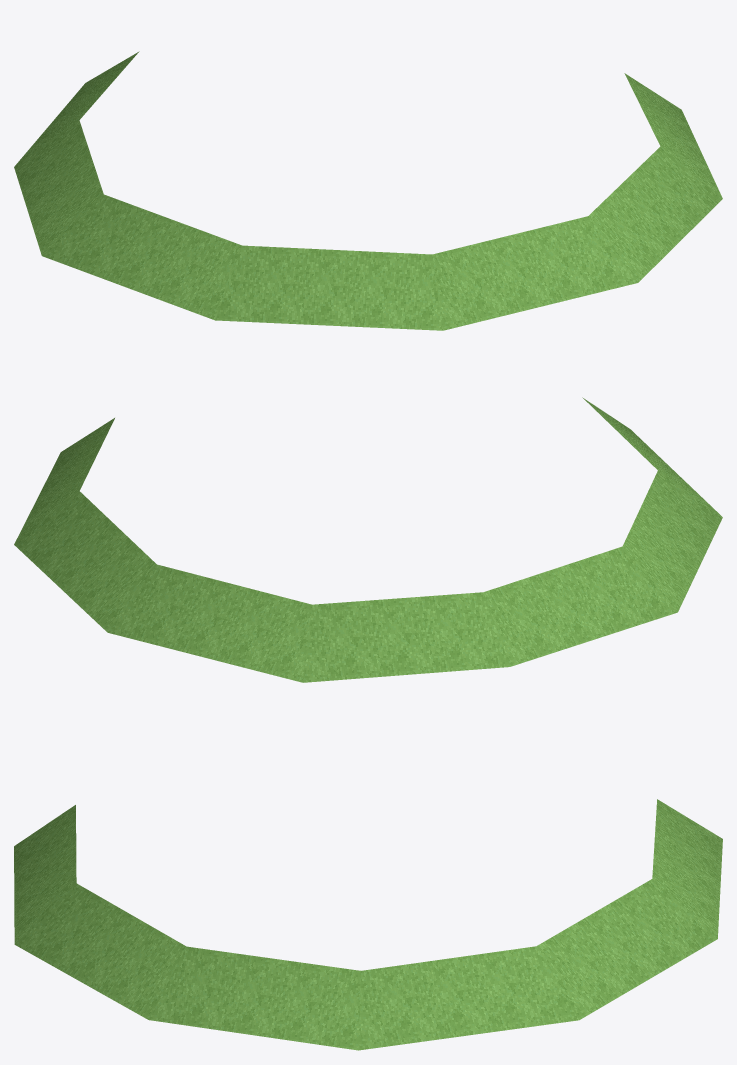
File: kd_connection_world-outer_surface_6_3.glb
3 views of the same model, one above another, from view 1: azimuth 30°, elevation 25°; view 2: azimuth 150°, elevation 25°; view 3: azimuth 270°, elevation 25° (orthographic). The views are drawn at different scales.
Visible parts, largest first — view 1: kd_connection_world-outer_surface_6_3; view 2: kd_connection_world-outer_surface_6_3; view 3: kd_connection_world-outer_surface_6_3.
Boxes of the visible parts, box(x1,y1,x2,y2) form: kd_connection_world-outer_surface_6_3: box(14, 51, 722, 330); kd_connection_world-outer_surface_6_3: box(14, 397, 722, 682); kd_connection_world-outer_surface_6_3: box(14, 799, 722, 1050).
Bounding box in the file's own units: 196 × 14.78 × 185.
1 material, 1 textured.
